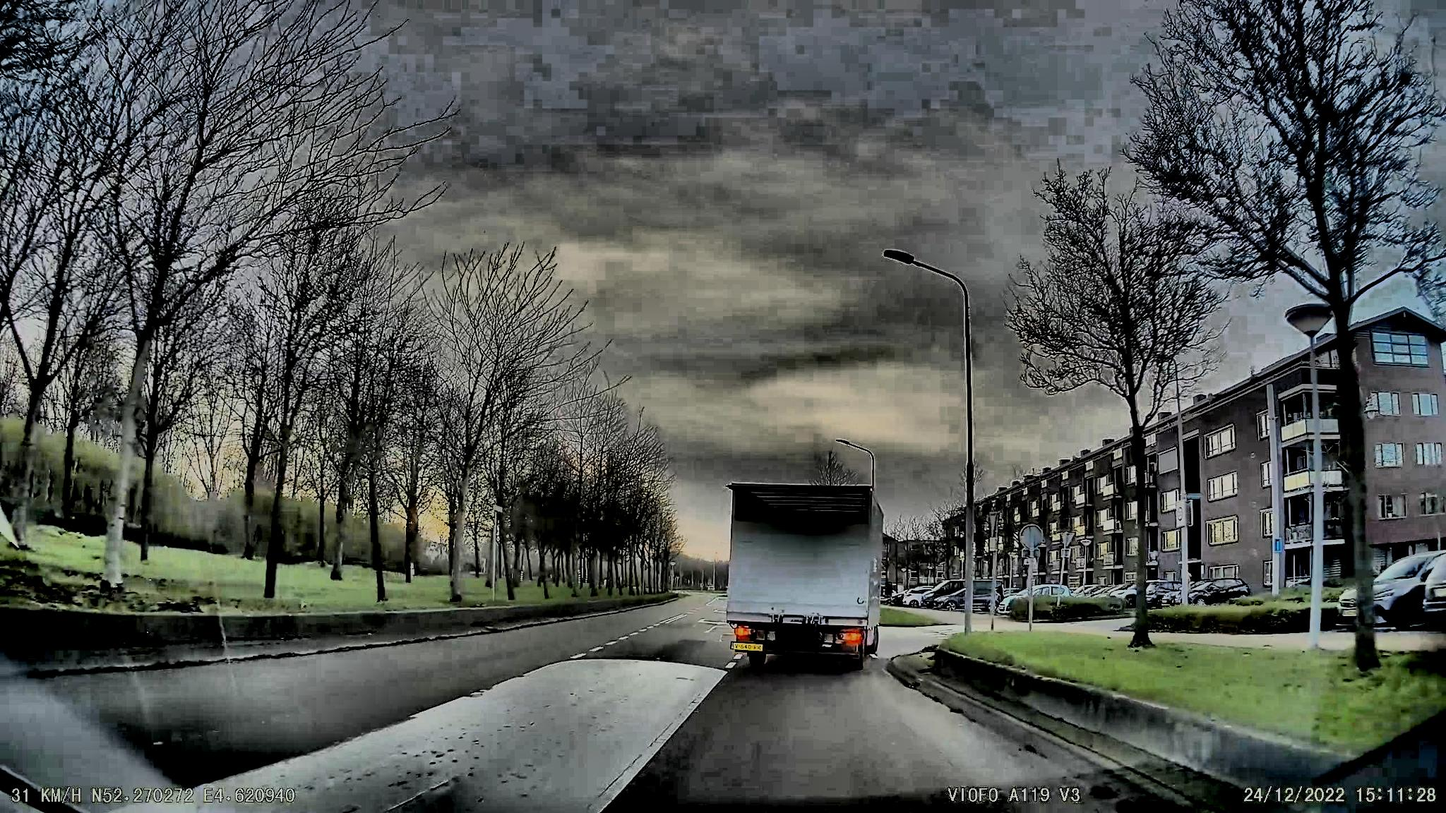Roads: (2, 604, 1215, 813)
